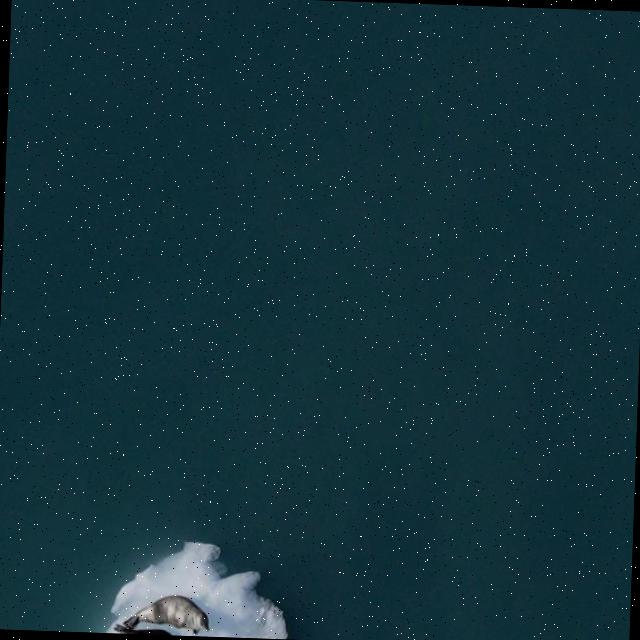seal: (115, 593, 210, 634), (117, 629, 168, 634)
